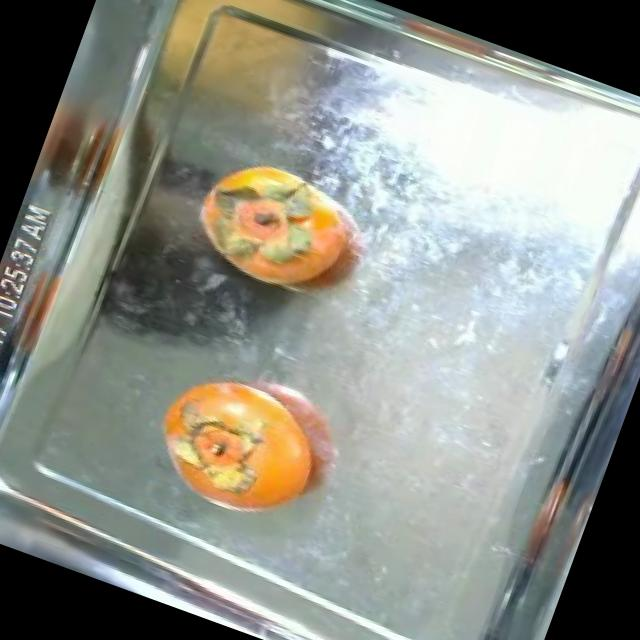Fruit: (130, 347, 358, 544), (174, 136, 339, 300)
